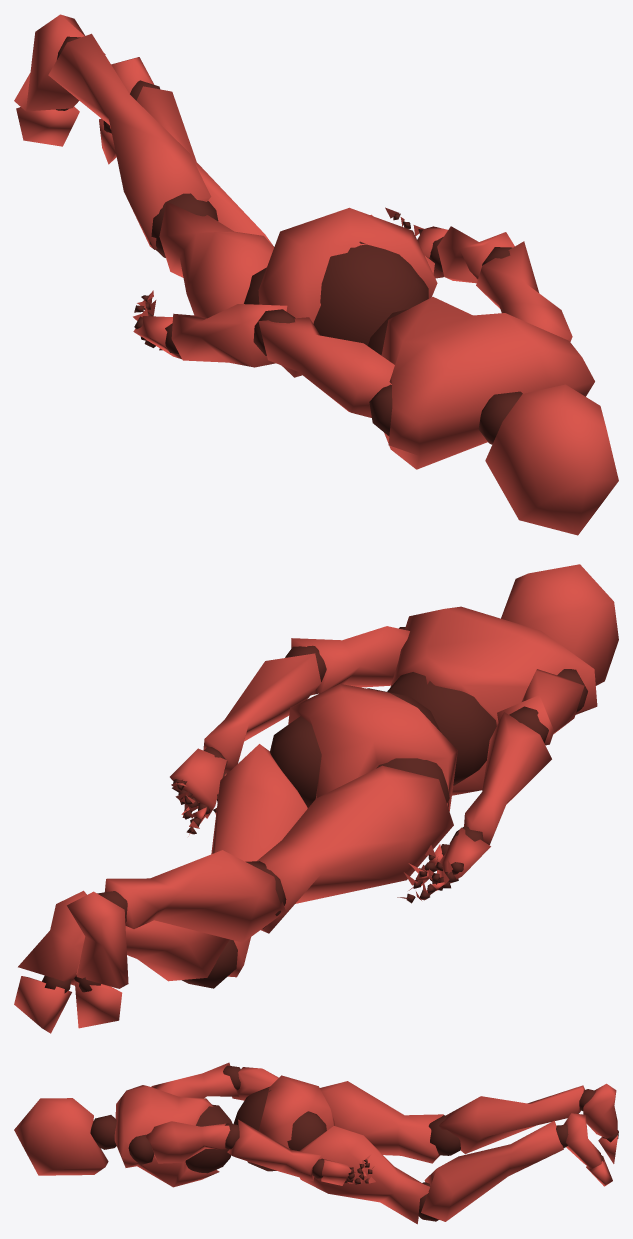
3 views of the same model, one above another, from view 1: azimuth 30°, elevation 25°; view 2: azimuth 150°, elevation 25°; view 3: azimuth 270°, elevation 25° (orthographic). The views are drawn at different scales.
Parts seen in each view (by area): view 1: Beta_Surface, Beta_Joints; view 2: Beta_Surface, Beta_Joints; view 3: Beta_Surface, Beta_Joints.
Part boxes in pixels (<box>): Beta_Surface: <box>14,14,618,535</box>; Beta_Joints: <box>56,36,522,444</box>; Beta_Surface: <box>14,564,618,1033</box>; Beta_Joints: <box>42,627,587,993</box>; Beta_Surface: <box>14,1062,617,1224</box>; Beta_Joints: <box>90,1065,618,1221</box>.
Bounding box in the file's own units: 0.6017 × 0.4178 × 1.8.
